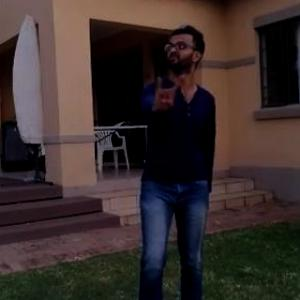takeoff-hand: (147, 71, 180, 111)
